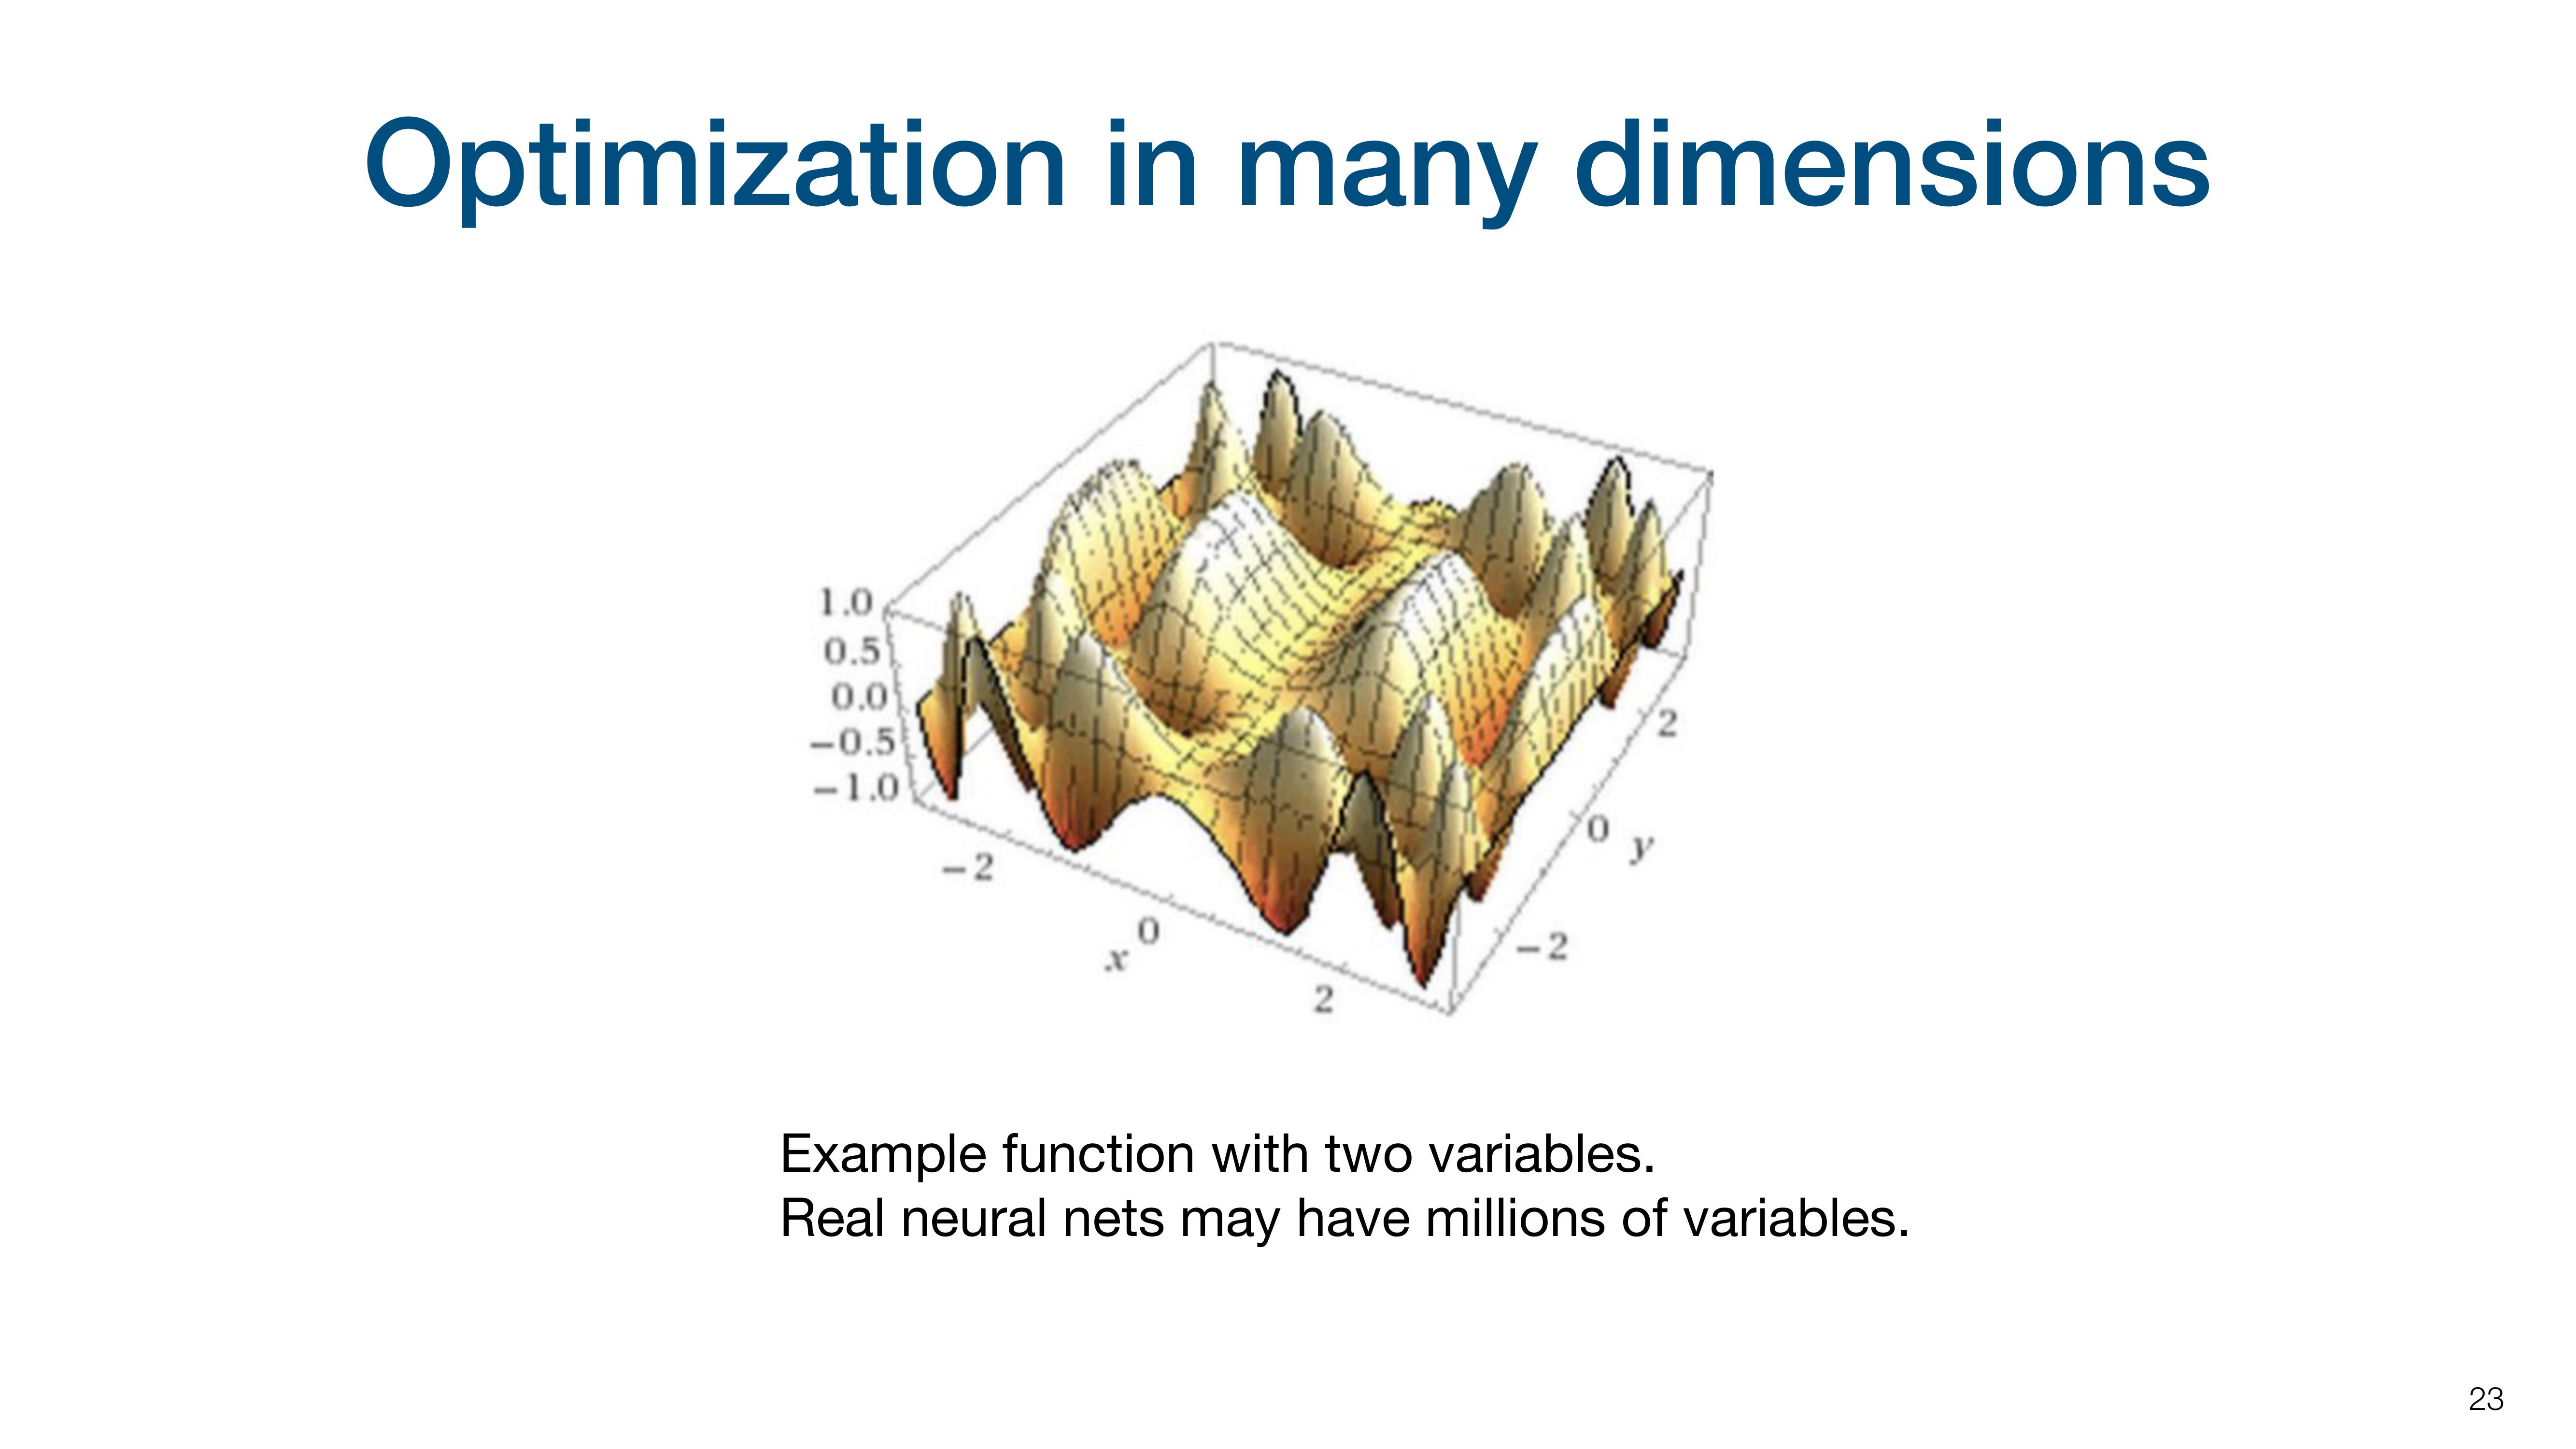Title: (354, 88, 2243, 253)
